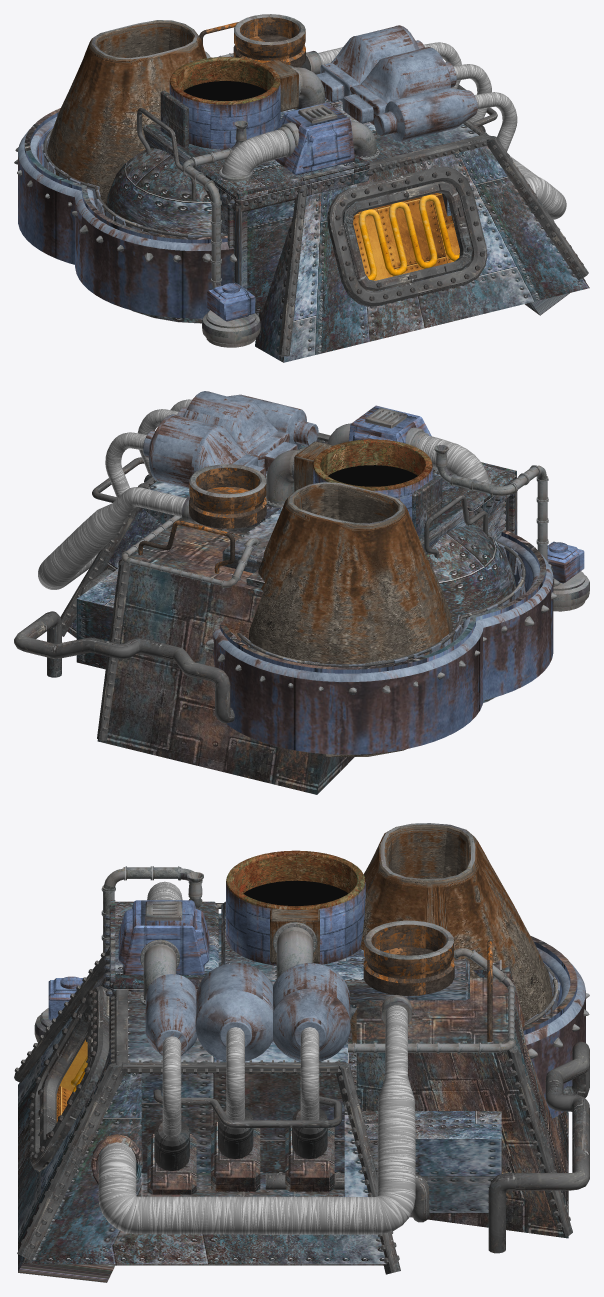
Rendered from static.fbx.
3 renders of one model, top to bottom at view 1: azimuth 30°, elevation 25°; view 2: azimuth 150°, elevation 25°; view 3: azimuth 270°, elevation 25°, orthographic. The views are drawn at different scales.
Parts seen in each view (by area): view 1: Cube_8_9, Sweep_1, Boole_remesh, Tube, Cube_11_8, Loft_4, Sweep_12, Loft_2, Cube_9_8, Cube_3_5, Sweep_1_3, Cylinder_7 (+26 smaller); view 2: Sweep_1, Boole_remesh, Cube_8_6, Loft_4, Sweep, Loft, Sweep_2_2, Cube_11_8, Cylinder_1_2, Tube, Loft_2, Cube_4_9 (+19 smaller); view 3: Cube_8_6, Cube_11_8, Sweep_2_2, Cube_1_14, Boole_remesh, Tube, Sweep, Cylinder_1_2, Loft, Loft_2, Cube_8_9, Sweep_1 (+32 smaller).
Part boxes in pixels (bbox=[...]): Cube_8_9: bbox=[255, 146, 589, 362]; Sweep_1: bbox=[18, 108, 233, 318]; Boole_remesh: bbox=[47, 20, 206, 211]; Tube: bbox=[169, 57, 280, 149]; Cube_11_8: bbox=[204, 98, 478, 313]; Loft_4: bbox=[104, 143, 258, 323]; Sweep_12: bbox=[327, 166, 487, 306]; Loft_2: bbox=[342, 47, 456, 125]; Cube_9_8: bbox=[353, 193, 459, 280]; Cube_3_5: bbox=[196, 153, 369, 211]; Sweep_1_3: bbox=[342, 181, 472, 291]; Cylinder_7: bbox=[374, 87, 477, 141]; Sweep_1: bbox=[212, 530, 553, 754]; Boole_remesh: bbox=[249, 482, 453, 756]; Cube_8_6: bbox=[97, 517, 354, 794]; Loft_4: bbox=[426, 524, 516, 703]; Sweep: bbox=[14, 569, 234, 723]; Loft: bbox=[143, 414, 265, 488]; Sweep_2_2: bbox=[38, 487, 186, 589]; Cube_11_8: bbox=[76, 439, 517, 669]; Cylinder_1_2: bbox=[189, 464, 266, 528]; Tube: bbox=[313, 439, 432, 519]; Loft_2: bbox=[177, 391, 297, 473]; Cube_4_9: bbox=[222, 501, 468, 573]; Cube_8_6: bbox=[356, 966, 568, 1238]; Cube_11_8: bbox=[128, 913, 501, 1213]; Sweep_2_2: bbox=[98, 1005, 415, 1234]; Cube_1_14: bbox=[23, 1073, 386, 1265]; Boole_remesh: bbox=[350, 823, 552, 1045]; Tube: bbox=[226, 850, 365, 965]; Sweep: bbox=[265, 1041, 589, 1253]; Cylinder_1_2: bbox=[363, 920, 454, 995]; Loft: bbox=[273, 963, 350, 1061]; Loft_2: bbox=[195, 963, 273, 1061]; Cube_8_9: bbox=[18, 970, 115, 1282]; Sweep_1: bbox=[523, 936, 585, 1118].
Bounding box in the file's own units: 655 × 330 × 616.
14 materials, 14 textured.
